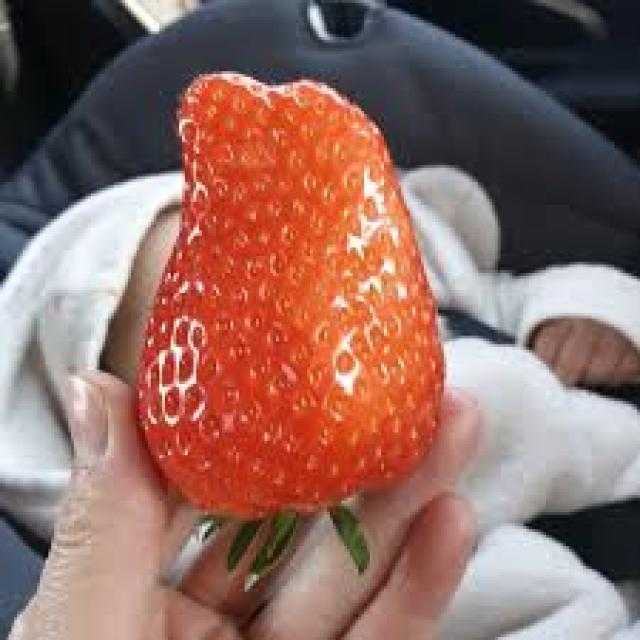mature: (139, 71, 448, 522)
